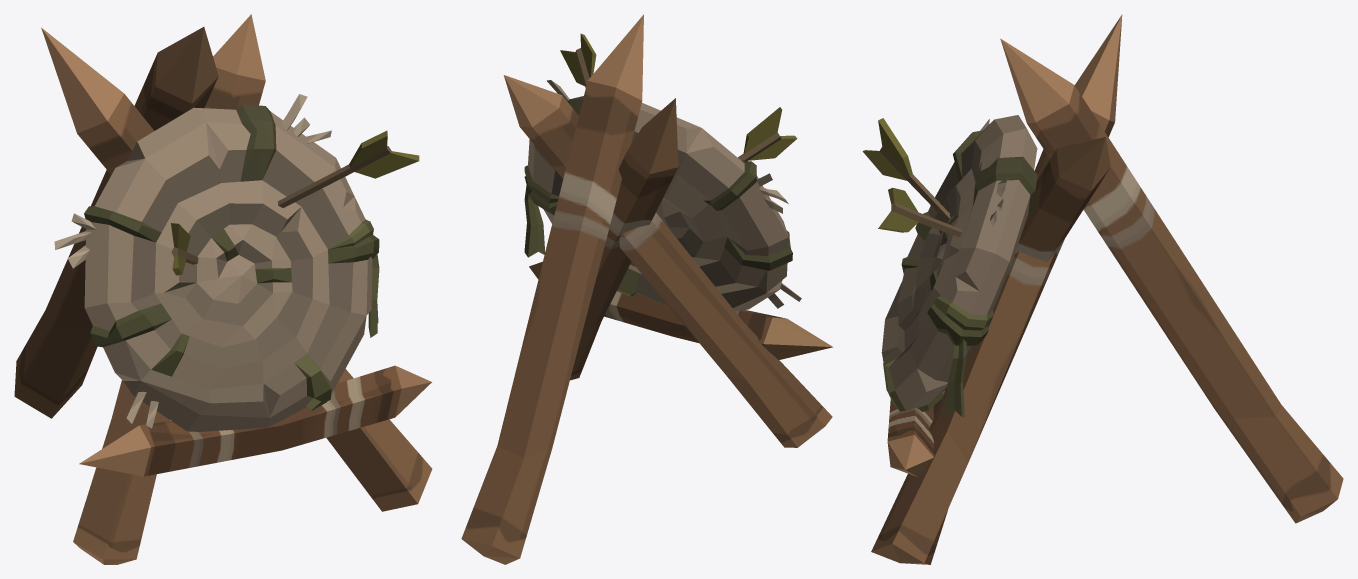
File: bog_target.gltf
The picture shows the model from 3 angles, left to right: view 1: azimuth 30°, elevation 25°; view 2: azimuth 150°, elevation 25°; view 3: azimuth 270°, elevation 25°; orthographic projection. The views are drawn at different scales.
Visible parts, largest first — view 1: bog_target; view 2: bog_target; view 3: bog_target.
Part boxes in pixels (box(x1,y1,x2,y2)): bog_target: box(14, 14, 432, 564); bog_target: box(461, 14, 833, 564); bog_target: box(862, 14, 1343, 564).
Size of the model in its own units: 0.8757 by 1.22 by 1.09.
1 material, 1 textured.
